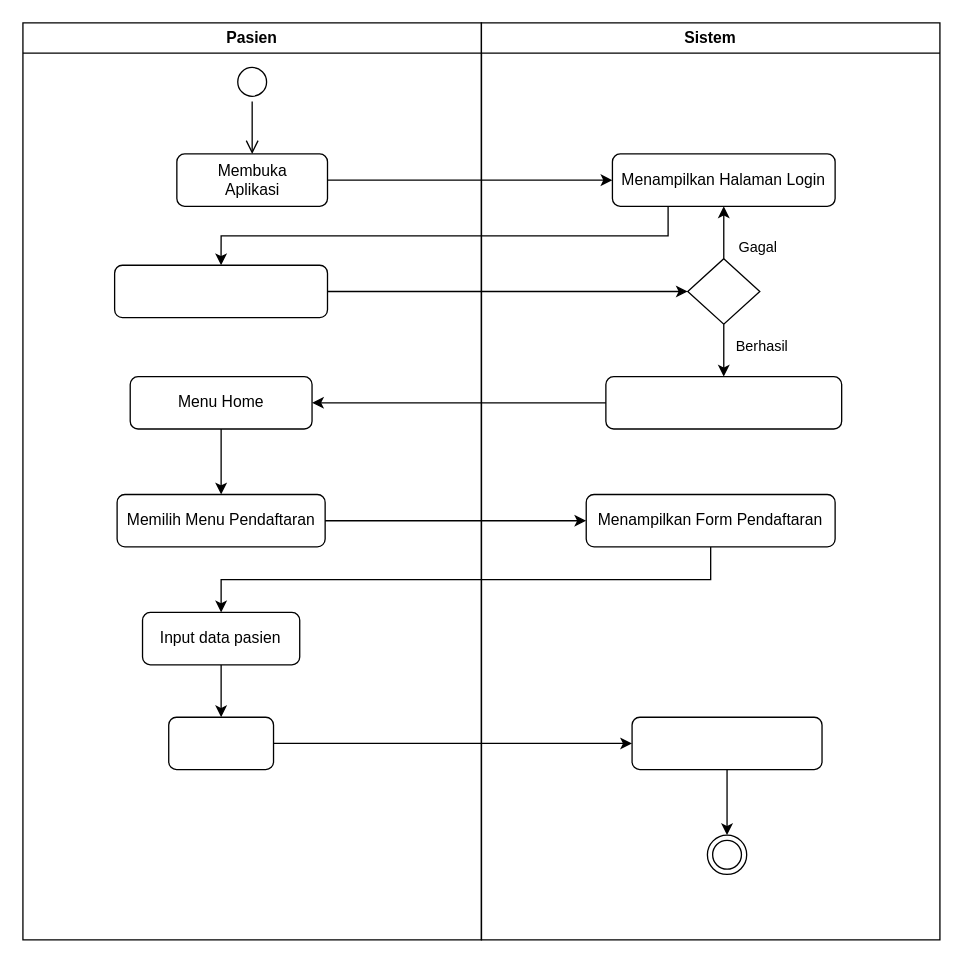
Some shapes in this 963 by 963 pixel diagram are drawn without their labels. Each missing label, with the box of its shape:
Input email dan password: (113, 264, 328, 318)
Menampilkan Halaman Home: (605, 375, 842, 429)
Menampilkan Kode QR: (631, 716, 822, 770)
Simpan: (167, 716, 274, 770)
